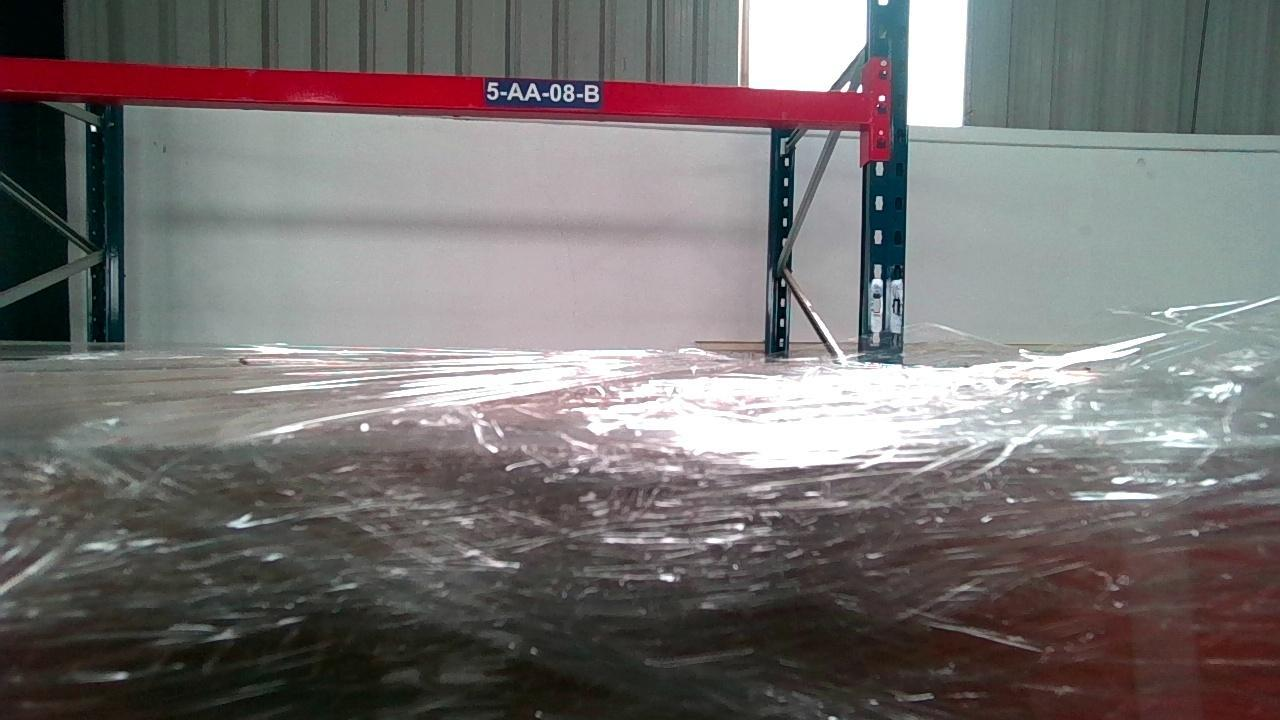h_rack: (0, 56, 875, 122)
